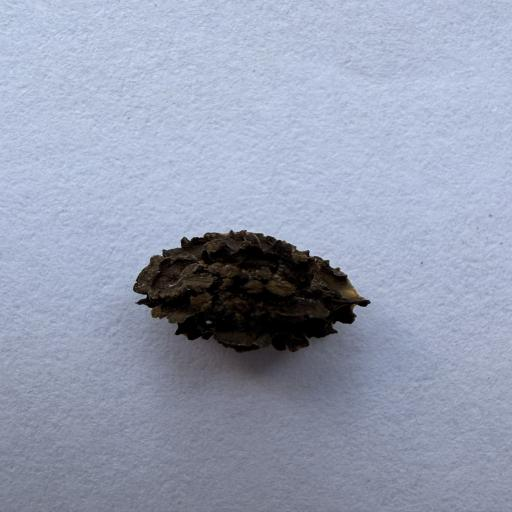papaya_seed: (127, 211, 385, 356)
